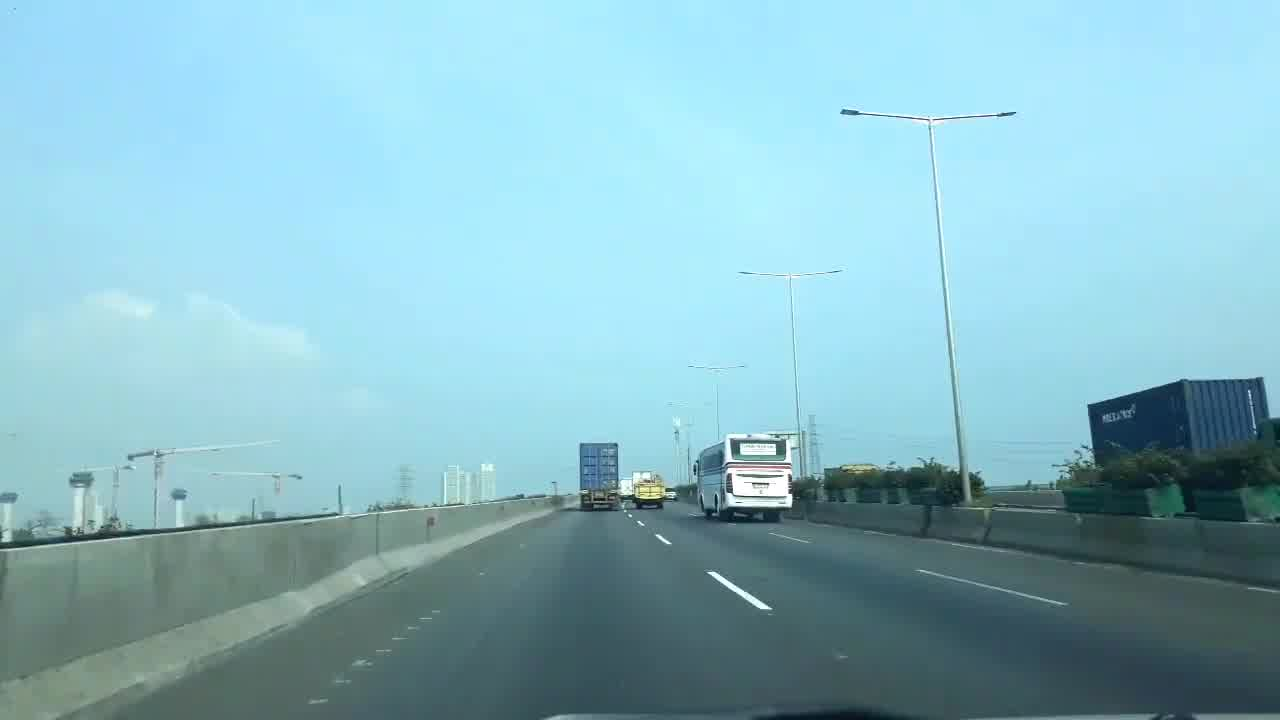plate_positive: (753, 483, 768, 488)
